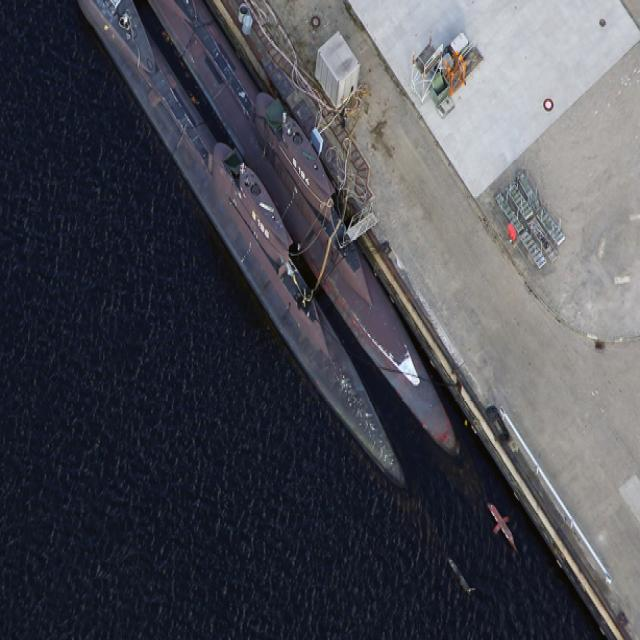submarine: (74, 1, 431, 473), (121, 1, 469, 461)
